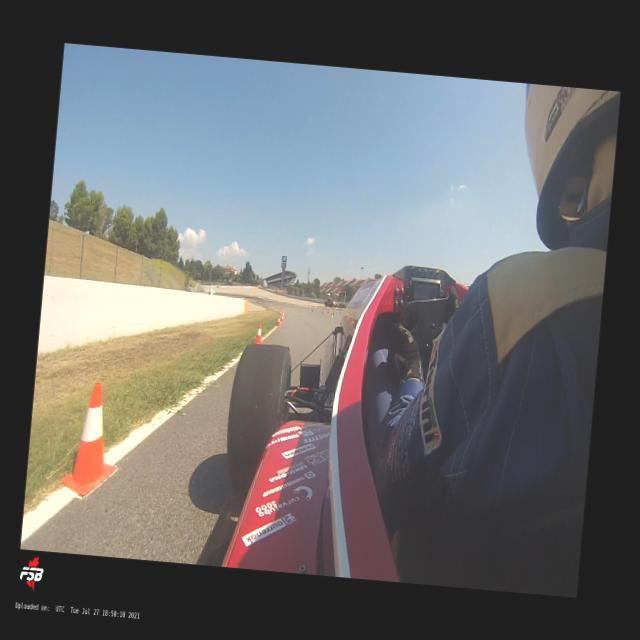orange_cone: (59, 379, 124, 499), (255, 324, 262, 344), (276, 315, 280, 326), (280, 313, 283, 321)
yellow_cone: (330, 310, 333, 316)
